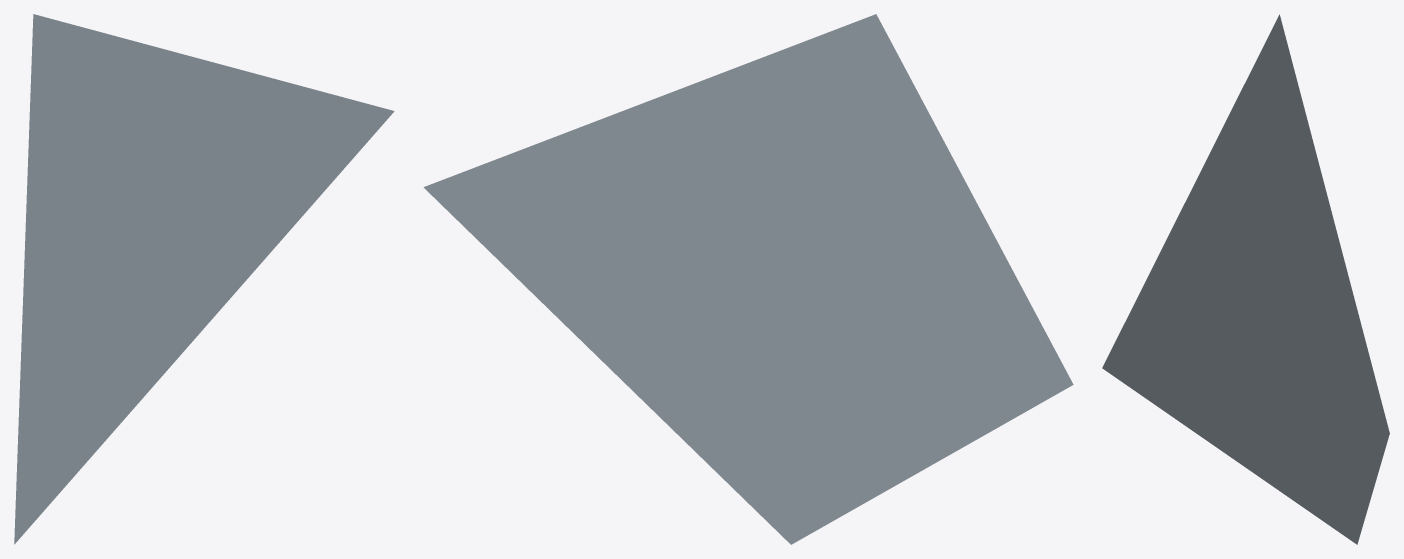
File: triquetrohamate-ligament-l.glb
3 renders of one model, left to right at view 1: azimuth 30°, elevation 25°; view 2: azimuth 150°, elevation 25°; view 3: azimuth 270°, elevation 25°, orthographic. The views are drawn at different scales.
Visible parts, largest first — view 1: Triquetrohamate ligament.l; view 2: Triquetrohamate ligament.l; view 3: Triquetrohamate ligament.l.
Boxes of the visible parts, <box> form: Triquetrohamate ligament.l: <box>14,14,394,544</box>; Triquetrohamate ligament.l: <box>423,14,1073,544</box>; Triquetrohamate ligament.l: <box>1102,14,1389,544</box>.
Bounding box in the file's own units: 0.00585 × 0.00568 × 0.00291.
